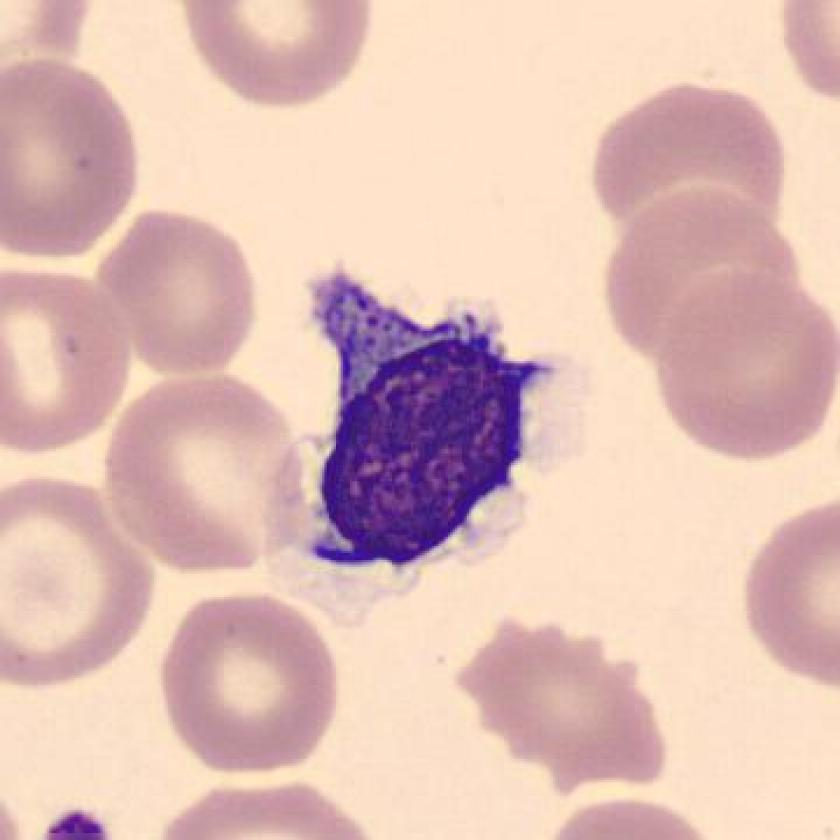lymphocyte: (246, 239, 601, 640)
